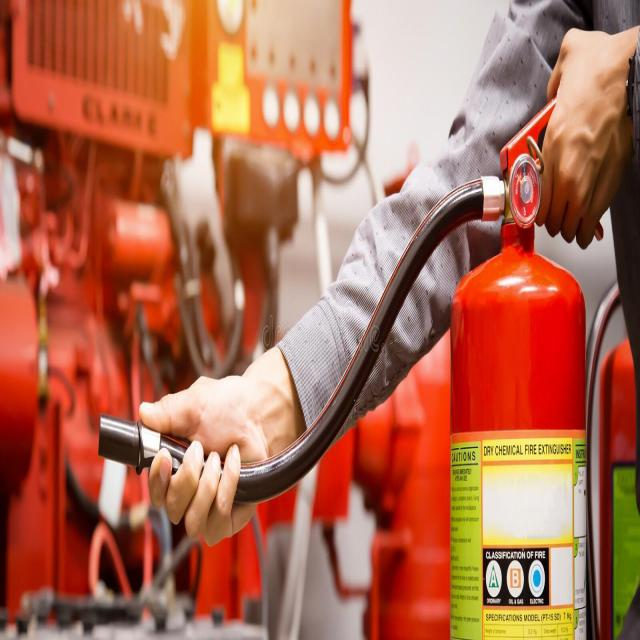fire_extinguisher: (92, 57, 640, 639)
